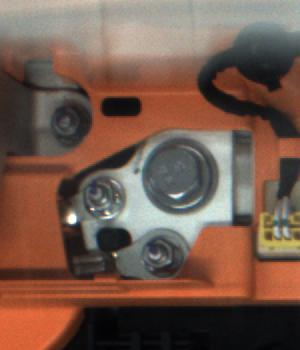nut_b: (142, 143, 222, 217)
screw_s: (79, 174, 127, 218), (139, 236, 187, 279), (50, 103, 88, 146)
